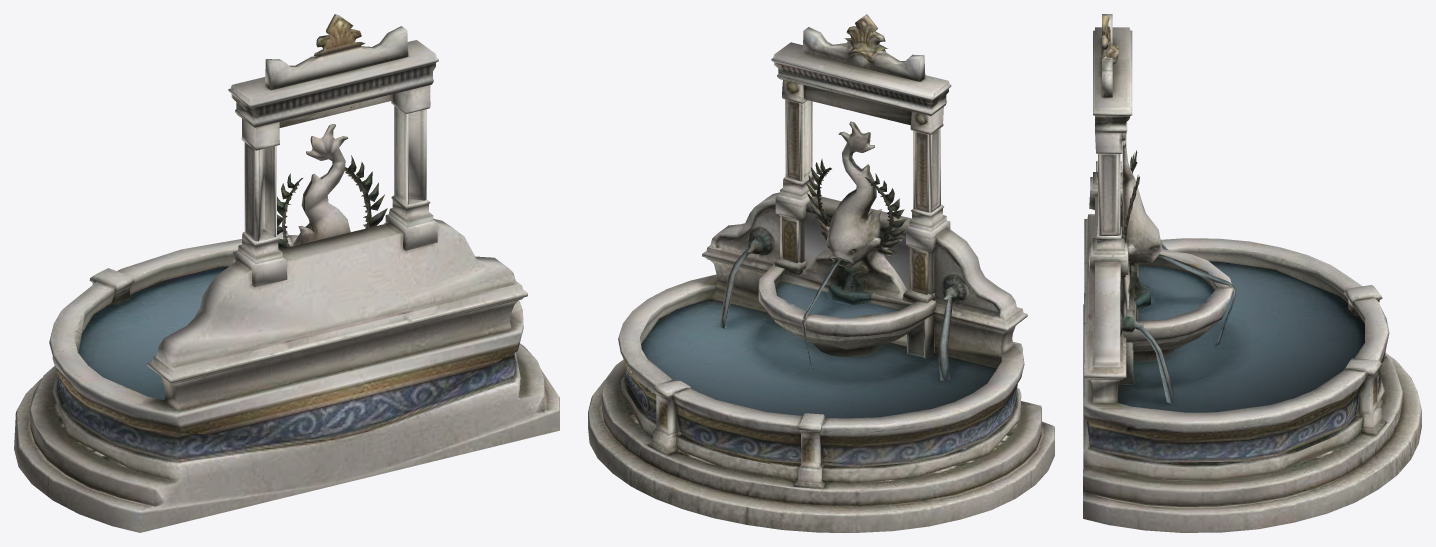
The model's file is marble_fountain.glb.
3 views of the same model, side by side, from view 1: azimuth 30°, elevation 25°; view 2: azimuth 150°, elevation 25°; view 3: azimuth 270°, elevation 25° (orthographic). The views are drawn at different scales.
Visible parts, largest first — view 1: marble_fountain; view 2: marble_fountain; view 3: marble_fountain.
Part boxes in pixels (box(x1,y1,x2,y2)): marble_fountain: box(14, 14, 559, 532); marble_fountain: box(588, 14, 1054, 532); marble_fountain: box(1083, 14, 1421, 532).
Size of the model in its own units: 1.66 by 1.5 by 1.12.
1 material, 1 textured.
